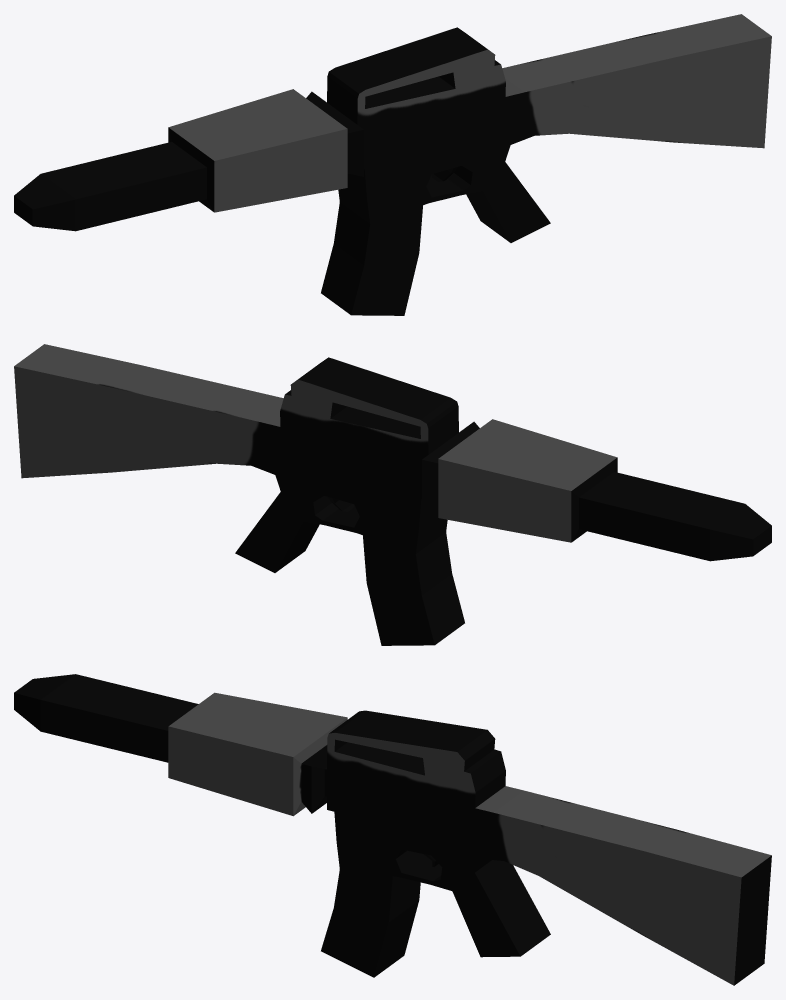
The picture shows the model from 3 angles, top to bottom: view 1: azimuth 30°, elevation 25°; view 2: azimuth 150°, elevation 25°; view 3: azimuth 330°, elevation 25°; orthographic projection.
Parts seen in each view (by area): view 1: Cube; view 2: Cube; view 3: Cube.
Part boxes in pixels (x1=…): Cube: x1=14, y1=14, x2=771, y2=315; Cube: x1=14, y1=344, x2=771, y2=645; Cube: x1=14, y1=674, x2=771, y2=985.
Bounding box in the file's own units: 960 × 308 × 123.
1 material, 1 textured.
